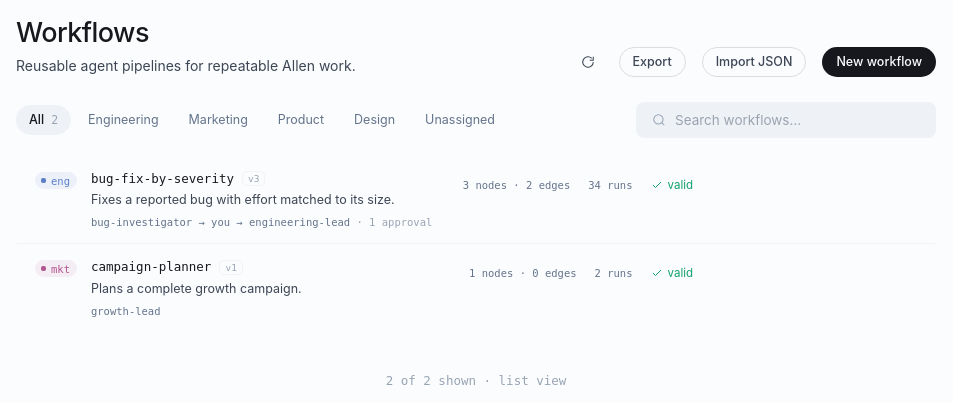
Test: WorkflowListPage V8 › renders workflow shape, route metadata, and category filtering
Expected: the heading "Workflows" is shown, x1=16 y1=16 x2=149 y2=49
Expected: the text "3 nodes · 2 edges" is shown, x1=463 y1=179 x2=570 y2=191
Step 1. Click the button "Marketing" → coordinates (218, 120), box x1=176 y1=105 x2=261 y2=135
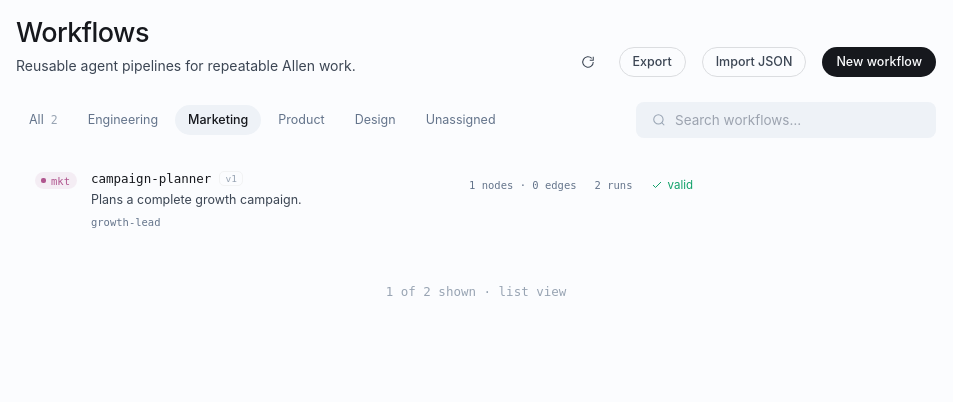
Expected: the text "campaign-planner" is shown, x1=91 y1=171 x2=211 y2=186
Expected: the text "bug-fix-by-severity" is gone
